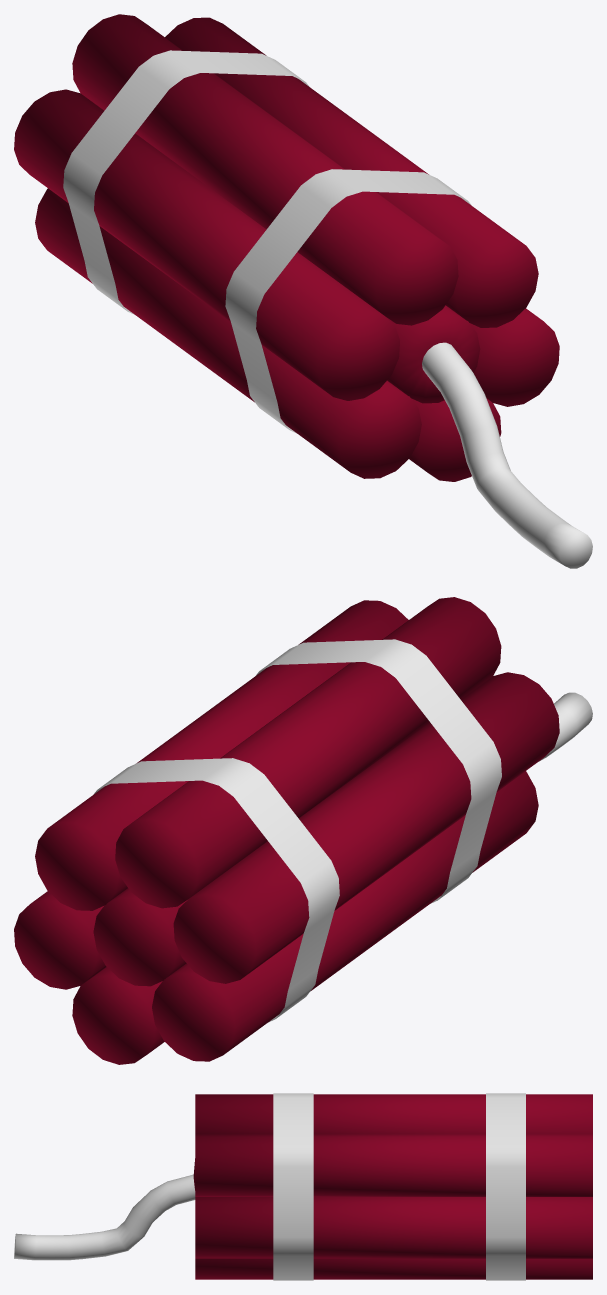
The model's file is TNT.fbx.
3 views of the same model, one above another, from view 1: azimuth 30°, elevation 25°; view 2: azimuth 150°, elevation 25°; view 3: azimuth 270°, elevation 25° (orthographic). The views are drawn at different scales.
Parts seen in each view (by area): view 1: Circle_001; view 2: Circle_001; view 3: Circle_001.
Part boxes in pixels (x1,y1,x2,y2): Circle_001: (14, 14, 592, 568); Circle_001: (14, 597, 592, 1064); Circle_001: (14, 1093, 592, 1280).
Size of the model in its own units: 0.7076 by 0.7039 by 2.2.
